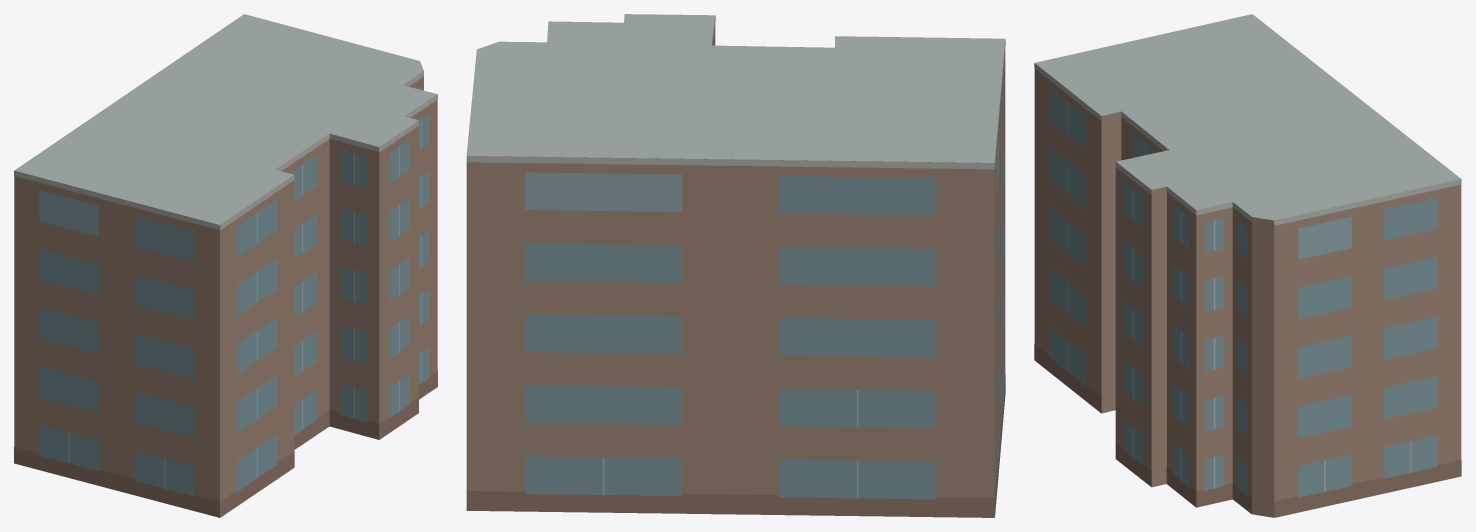
The model's file is survey-upis-32657763.glb.
3 renders of one model, left to right at view 1: azimuth 30°, elevation 25°; view 2: azimuth 150°, elevation 25°; view 3: azimuth 270°, elevation 25°, orthographic. The views are drawn at different scales.
Visible parts, largest first — view 1: survey-upis-32657763.tmp; view 2: survey-upis-32657763.tmp; view 3: survey-upis-32657763.tmp.
Part boxes in pixels (x1,y1,x2,y2): survey-upis-32657763.tmp: (14, 14, 437, 517); survey-upis-32657763.tmp: (466, 14, 1005, 517); survey-upis-32657763.tmp: (1034, 14, 1461, 517).
Bounding box in the file's own units: 20.11 × 13.5 × 17.58.
